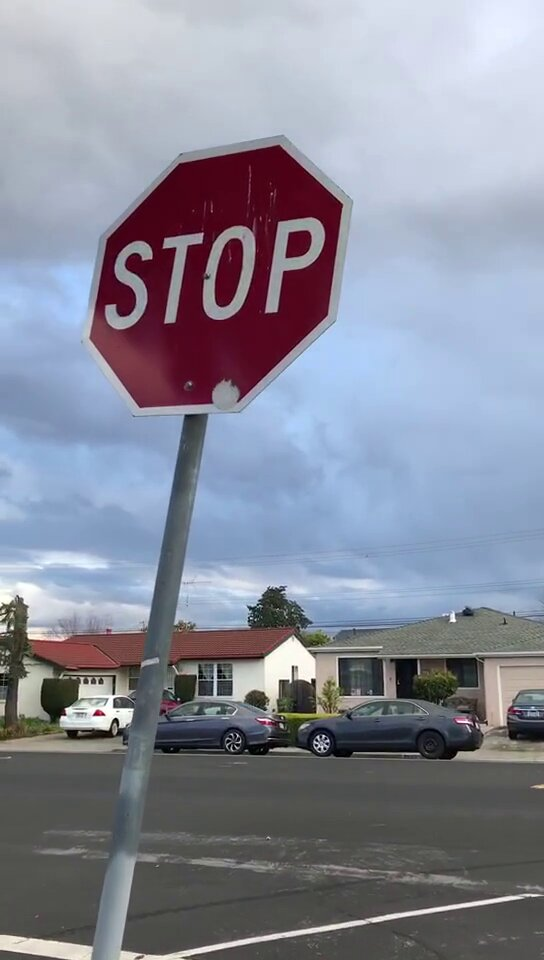stop_sign: (83, 136, 354, 412)
